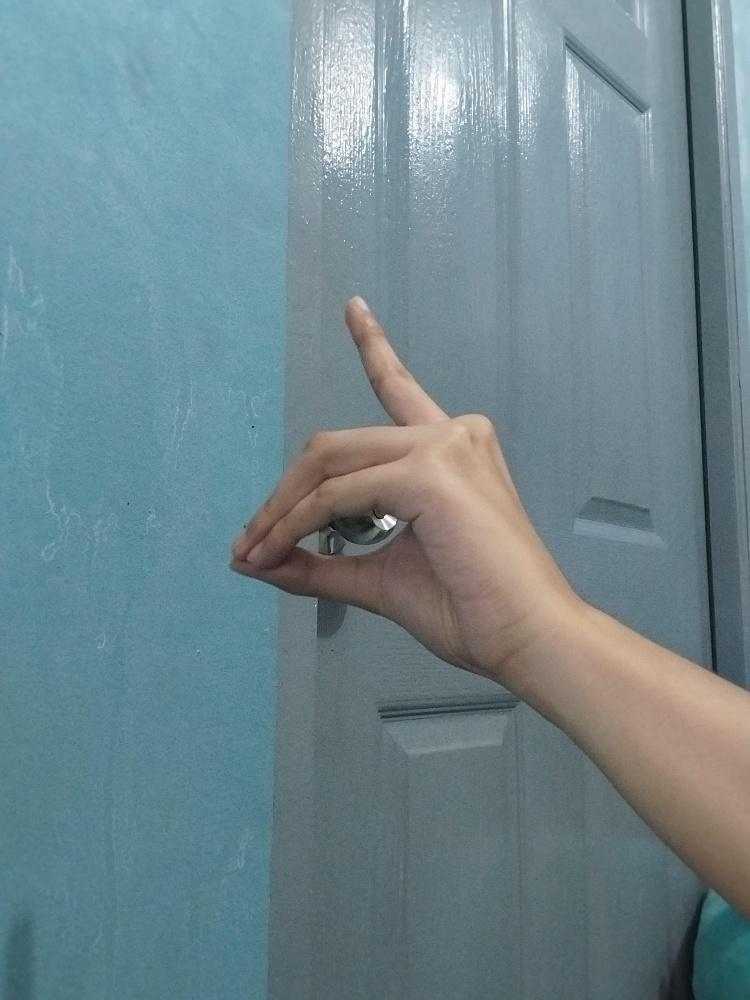d: (227, 287, 537, 664)
